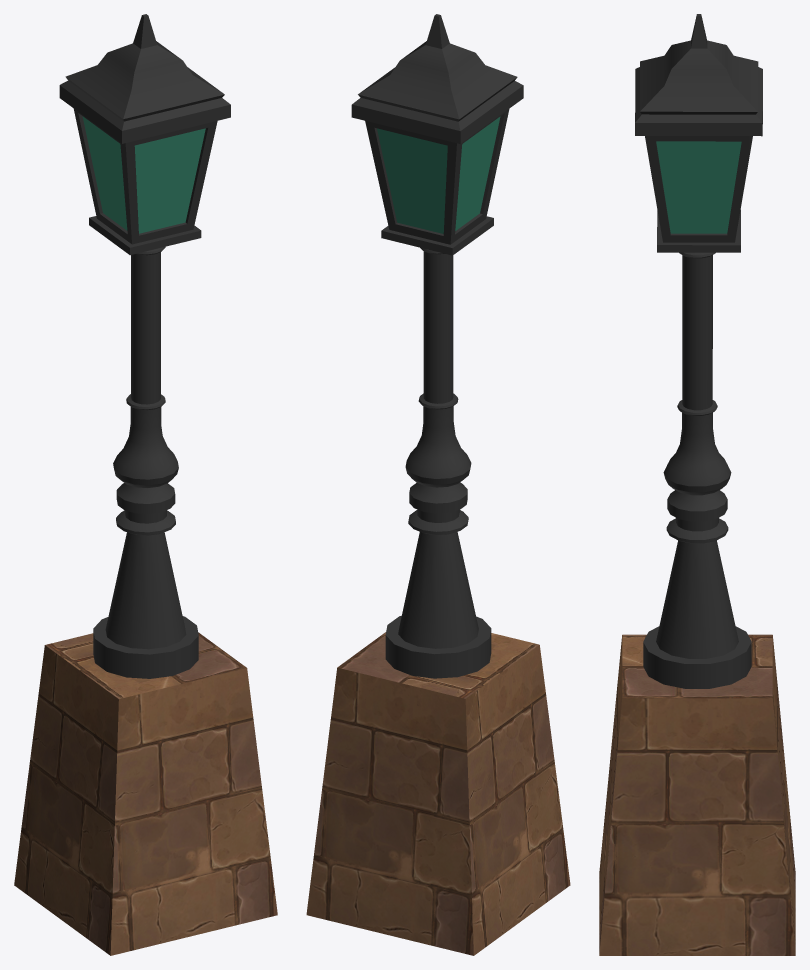
File: Lamp2.001.fbx
3 views of the same model, side by side, from view 1: azimuth 30°, elevation 25°; view 2: azimuth 150°, elevation 25°; view 3: azimuth 270°, elevation 25° (orthographic).
Parts seen in each view (by area): view 1: Lamp2.002; view 2: Lamp2.002; view 3: Lamp2.002.
Part boxes in pixels (x1,y1,x2,y2): Lamp2.002: (14,14,277,955); Lamp2.002: (306,14,570,955); Lamp2.002: (599,14,795,955).
Size of the model in its own units: 0.3351 by 1.69 by 0.3351.
Materials: 3 (2 with a texture image).
